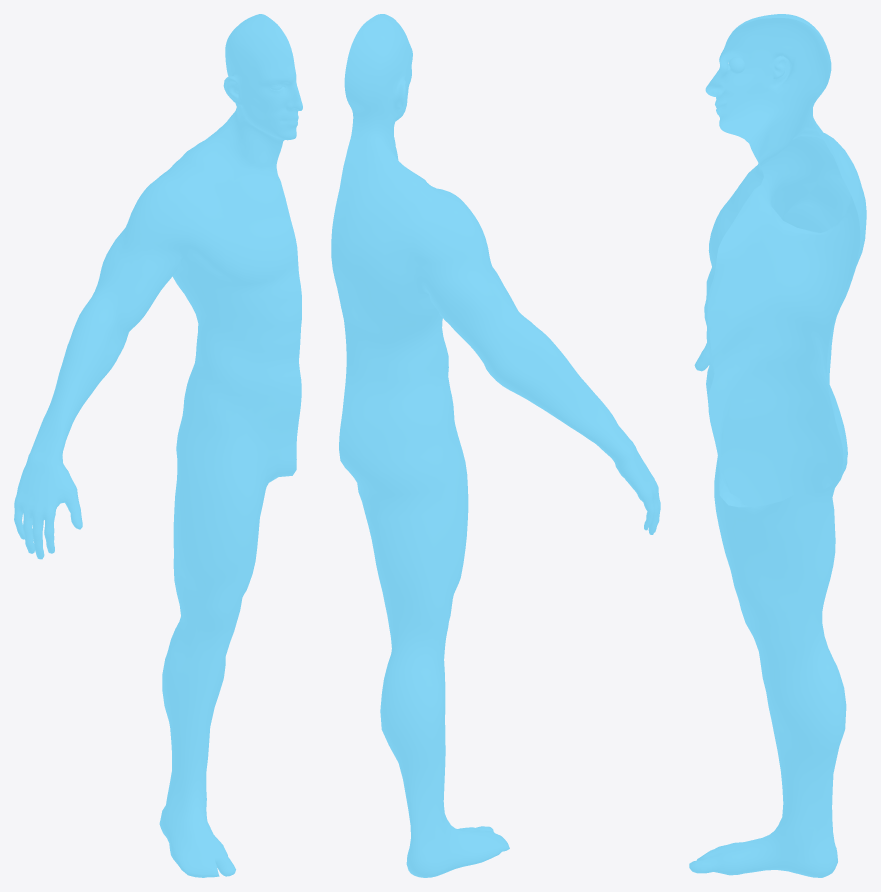
The model's file is MaleHologram.glb.
3 views of the same model, side by side, from view 1: azimuth 30°, elevation 25°; view 2: azimuth 150°, elevation 25°; view 3: azimuth 270°, elevation 25° (orthographic). The views are drawn at different scales.
Visible parts, largest first — view 1: MaleHologram; view 2: MaleHologram; view 3: MaleHologram.
Boxes of the visible parts, x1=… form: MaleHologram: x1=14, y1=14, x2=302, y2=877; MaleHologram: x1=331, y1=14, x2=660, y2=877; MaleHologram: x1=689, y1=14, x2=866, y2=877.
Size of the model in its own units: 0.6314 by 1.83 by 0.3274.
